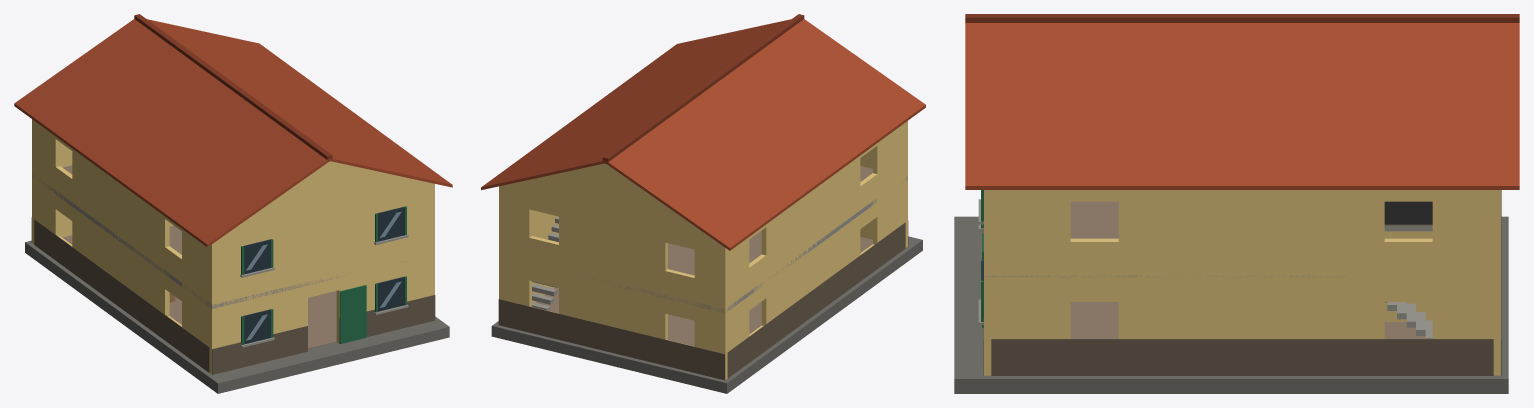
File: escritorio_a.glb
3 renders of one model, left to right at view 1: azimuth 30°, elevation 25°; view 2: azimuth 150°, elevation 25°; view 3: azimuth 270°, elevation 25°, orthographic. The views are drawn at different scales.
Parts seen in each view (by area): view 1: escritorio_a; view 2: escritorio_a; view 3: escritorio_a.
Boxes of the visible parts, x1,y1,x2,y2 form: escritorio_a: (14,14,452,393); escritorio_a: (481,14,925,393); escritorio_a: (954,14,1519,393).
Bounding box in the file's own units: 11 × 8.87 × 15.3.
